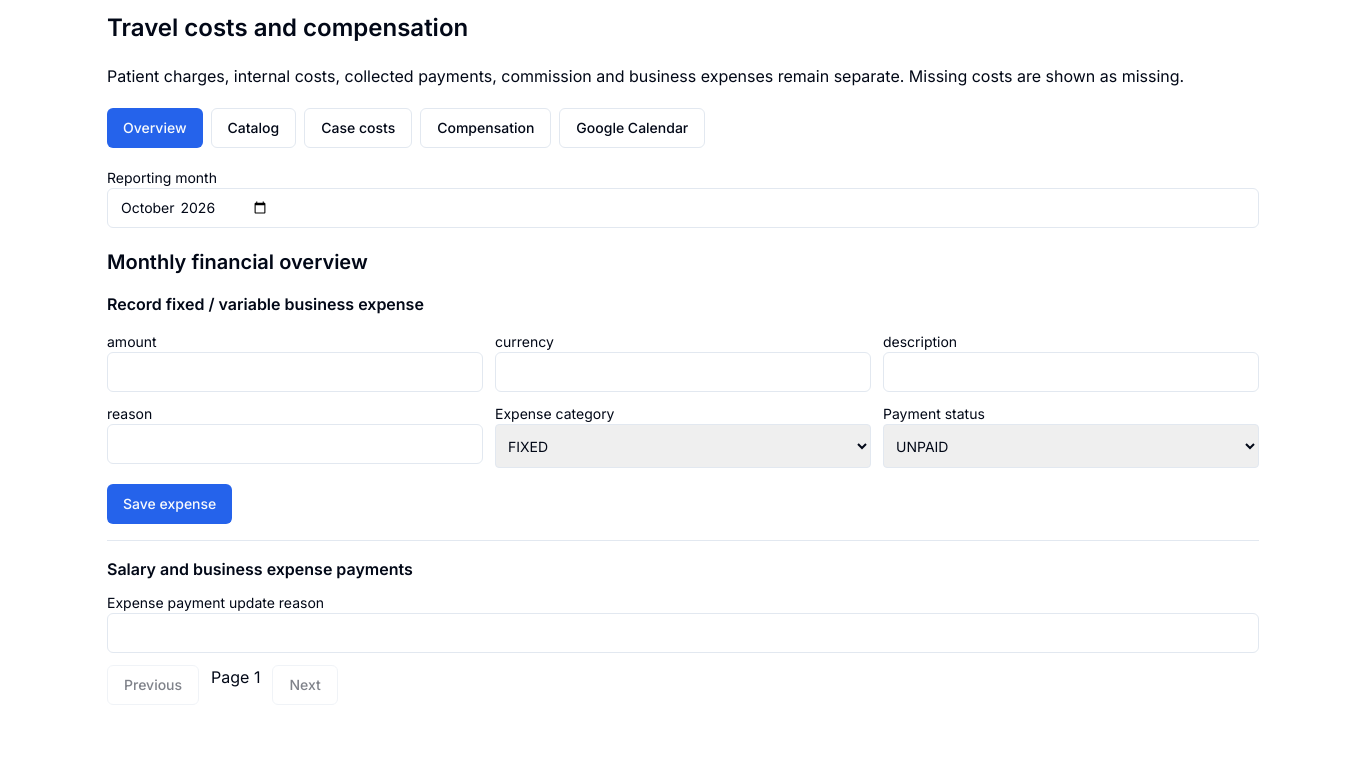
Scenario: shows Calendar loading errors and makes retry available
Step 1. Click the button "Google Calendar" → coordinates (632, 128), box left=559, top=108, right=705, bottom=148
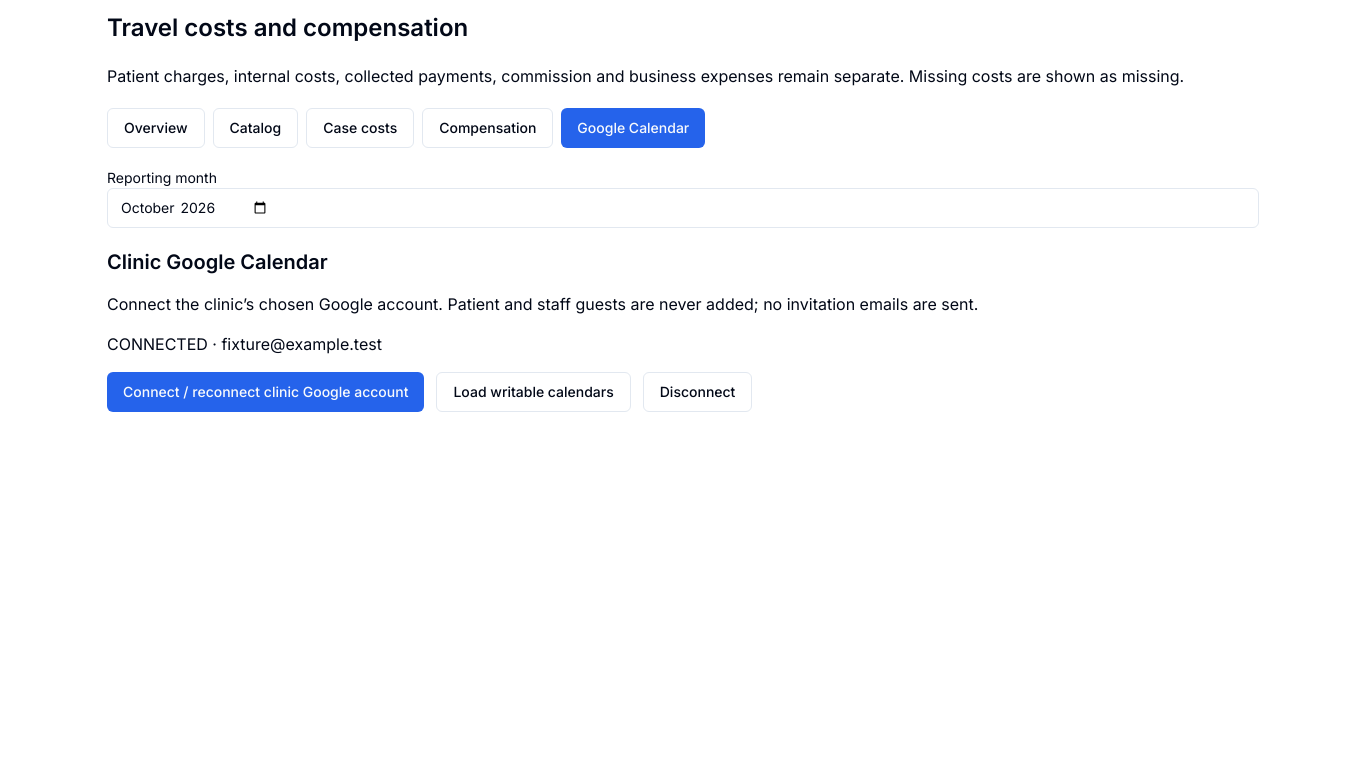
Expected: the button "Load writable calendars" is enabled
Step 2. Click the button "Load writable calendars" → coordinates (534, 392), box left=436, top=372, right=631, bottom=412
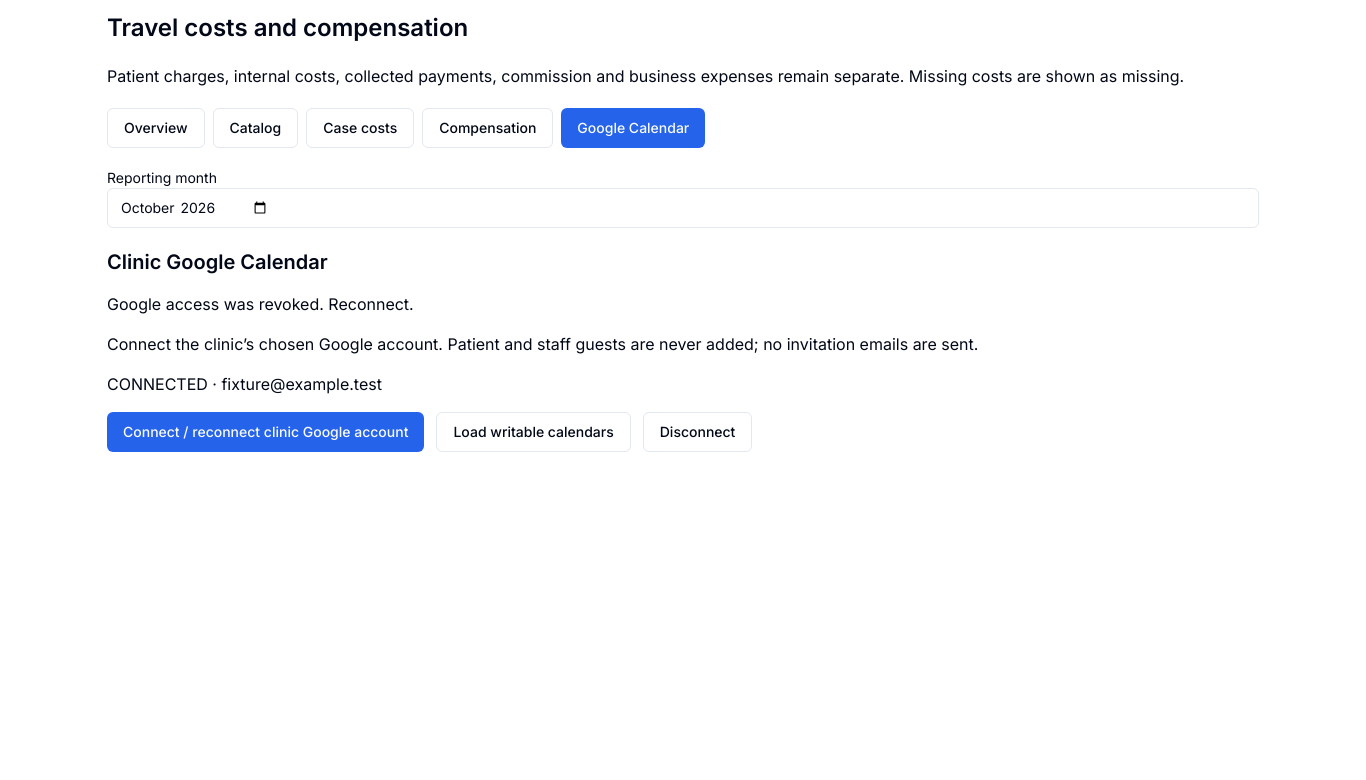
Expected: the button "Load writable calendars" is enabled, left=436, top=412, right=631, bottom=452
Expected: the message reads "Google access was revoked. Reconnect.", left=107, top=294, right=414, bottom=314
